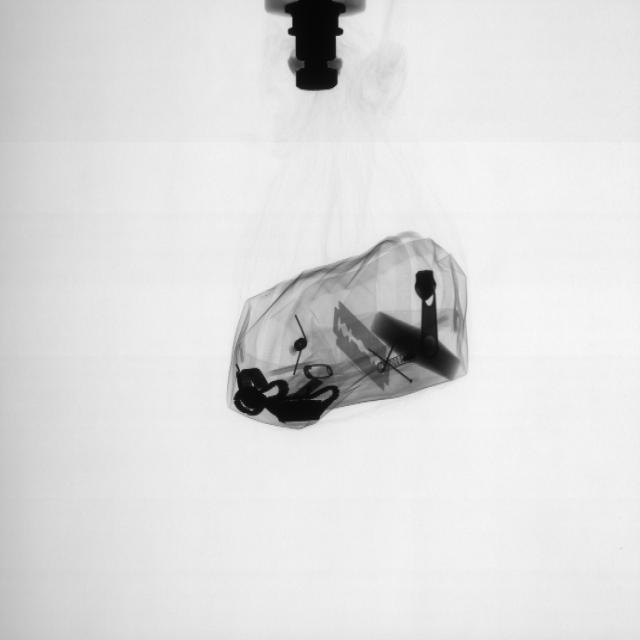BLADE: (333, 302, 390, 381)
